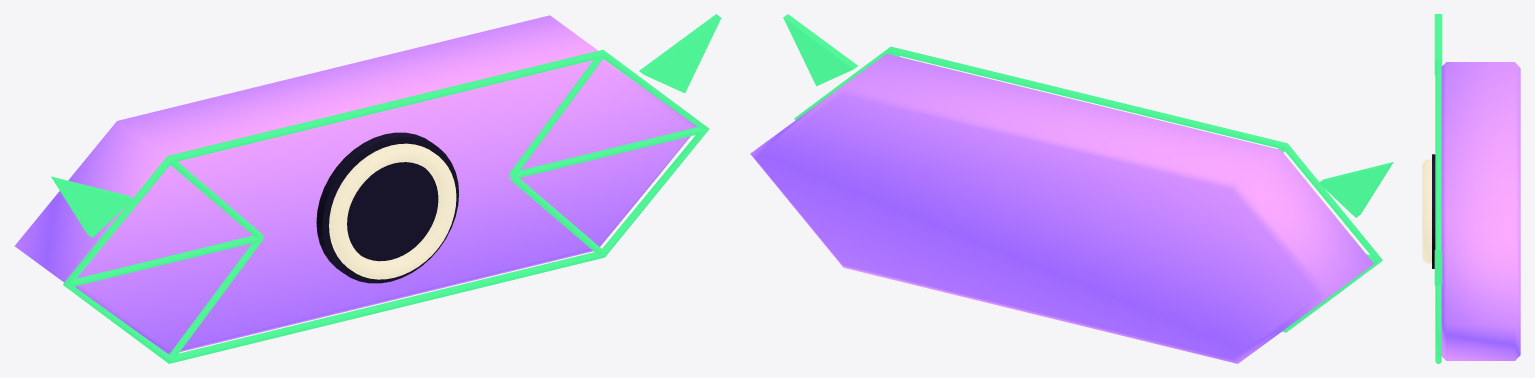
Rendered from boss_krystallhjertet.glb.
3 renders of one model, left to right at view 1: azimuth 30°, elevation 25°; view 2: azimuth 150°, elevation 25°; view 3: azimuth 270°, elevation 25°, orthographic. The views are drawn at different scales.
Visible parts, largest first — view 1: glb_boss_l25; view 2: glb_boss_l25; view 3: glb_boss_l25.
Part boxes in pixels (x1,y1,x2,y2): glb_boss_l25: (14, 14, 721, 363); glb_boss_l25: (750, 14, 1393, 363); glb_boss_l25: (1422, 14, 1520, 363).
Bounding box in the file's own units: 2.92 × 0.8942 × 0.515.
